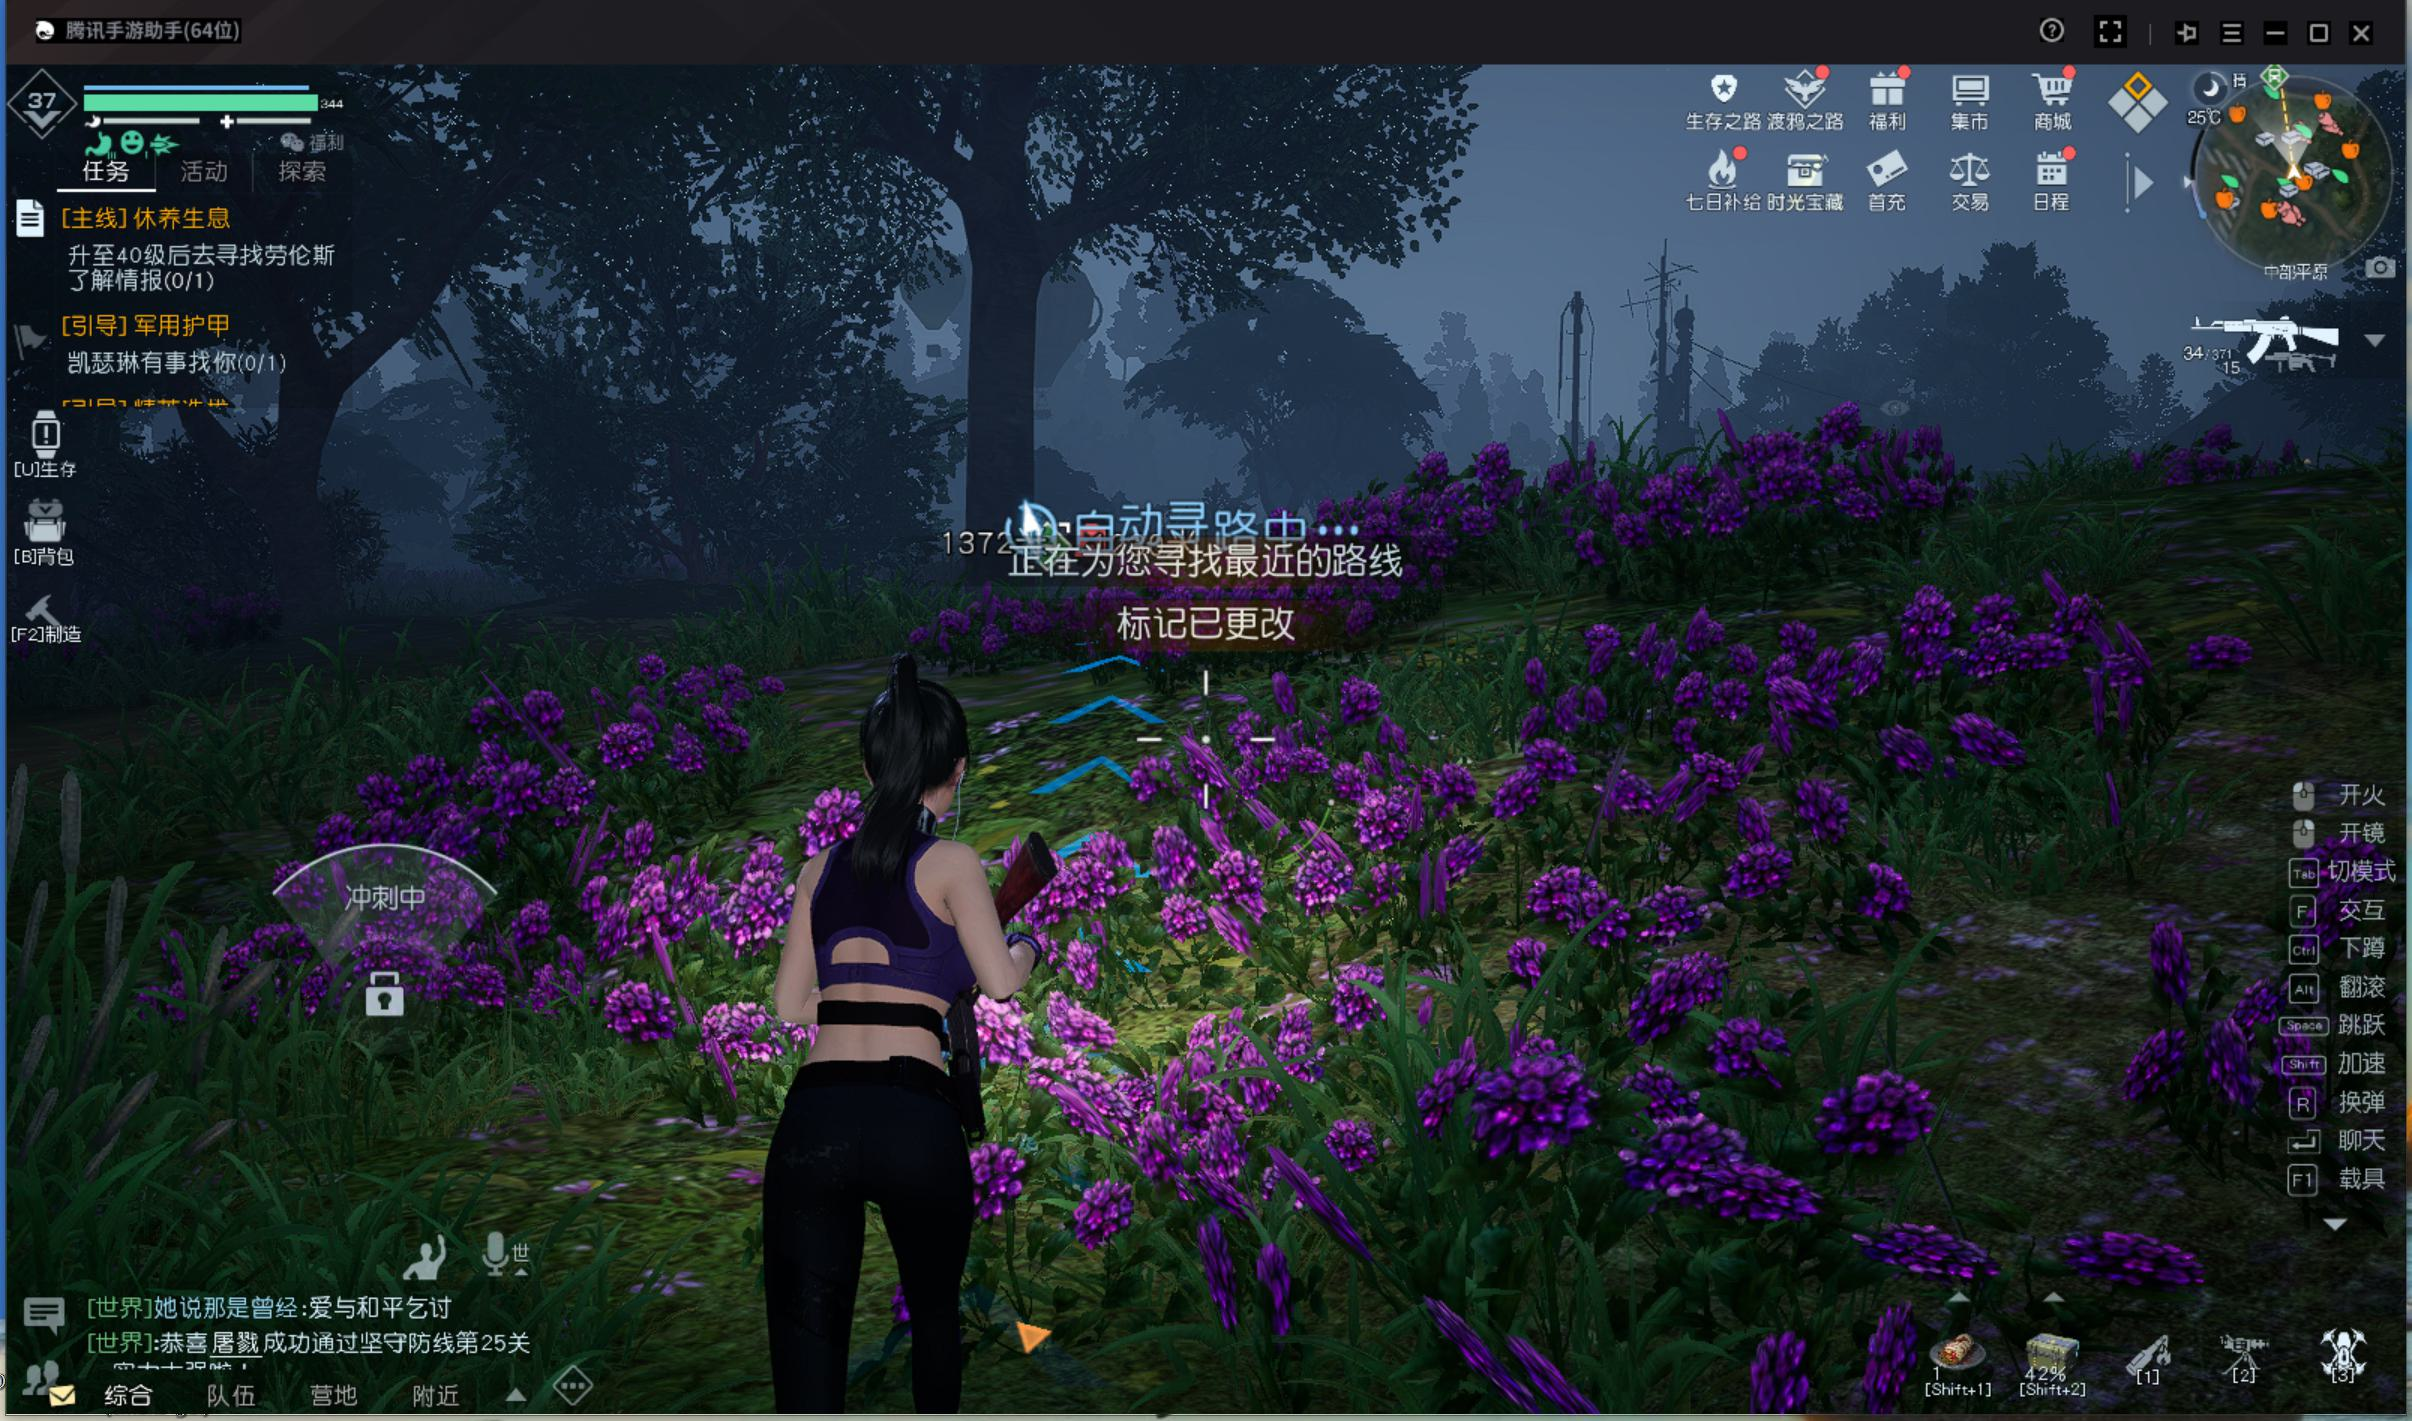tree: (962, 266, 1042, 551)
